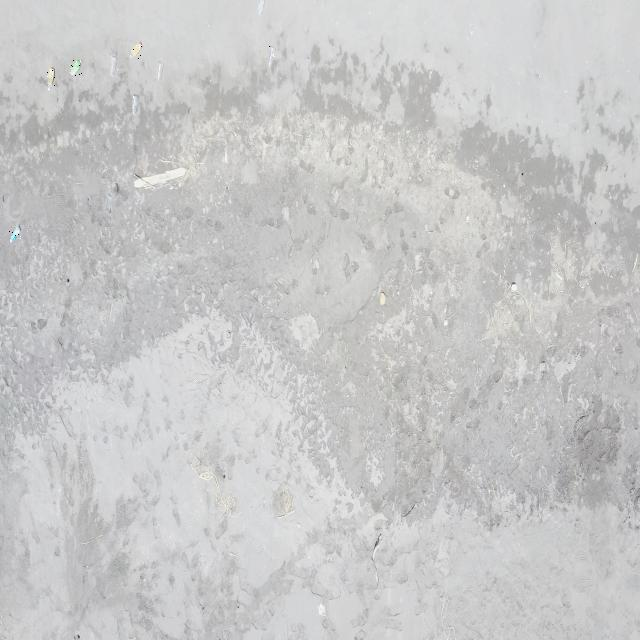plastic-bottle: (70, 59, 83, 76), (130, 41, 142, 59), (9, 225, 21, 242), (47, 68, 55, 91)
takeaway-cup: (268, 46, 276, 68), (110, 56, 118, 77), (132, 95, 139, 115), (157, 62, 164, 80), (258, 1, 264, 15)
